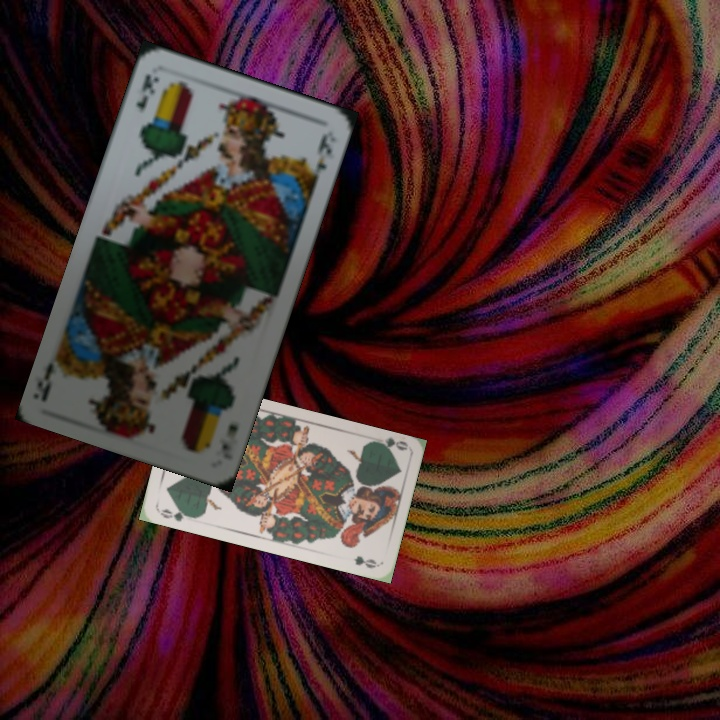EK: (131, 71, 163, 116), (217, 419, 241, 463)
GO: (368, 433, 409, 455), (156, 504, 196, 524)
